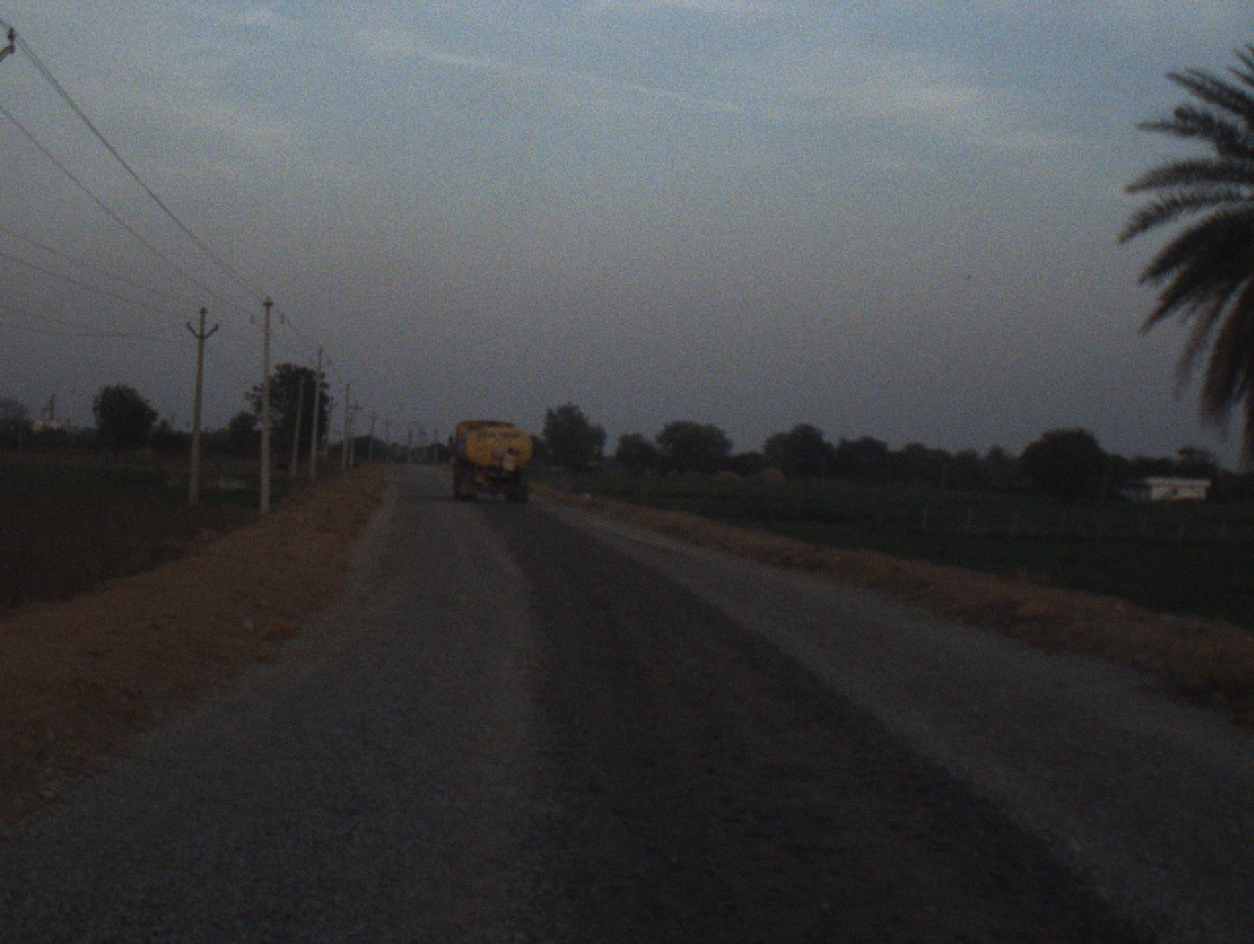rider: (503, 446, 522, 490)
truck: (446, 415, 537, 513)
